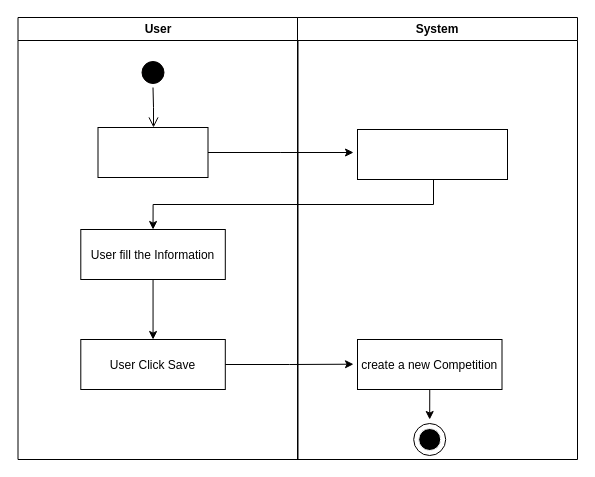
Some shapes in this 595 by 477 pixel diagram are drawn without their labels. Each missing label, with the centre of its shape:
Information pane Appear in the right side: the point at 432,154
User Click (+) in the left corner: the point at 152,152
